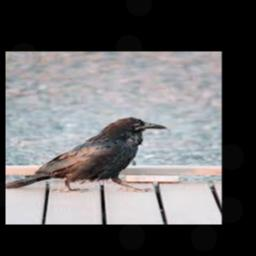Crow: (5, 116, 167, 192)
